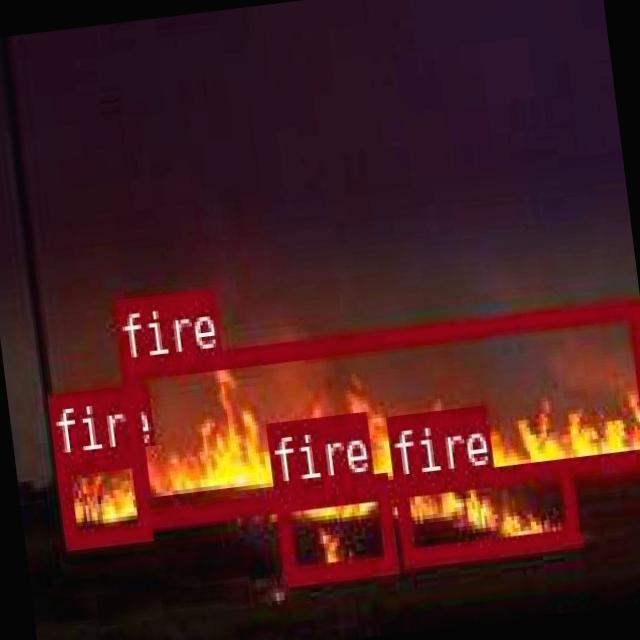fire: (119, 296, 640, 522), (392, 454, 578, 565), (272, 471, 394, 581), (53, 444, 150, 546)
